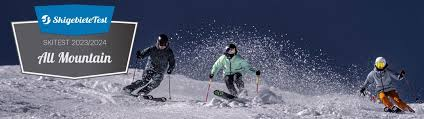skis: (209, 88, 251, 110), (127, 95, 167, 106), (381, 104, 412, 117)
